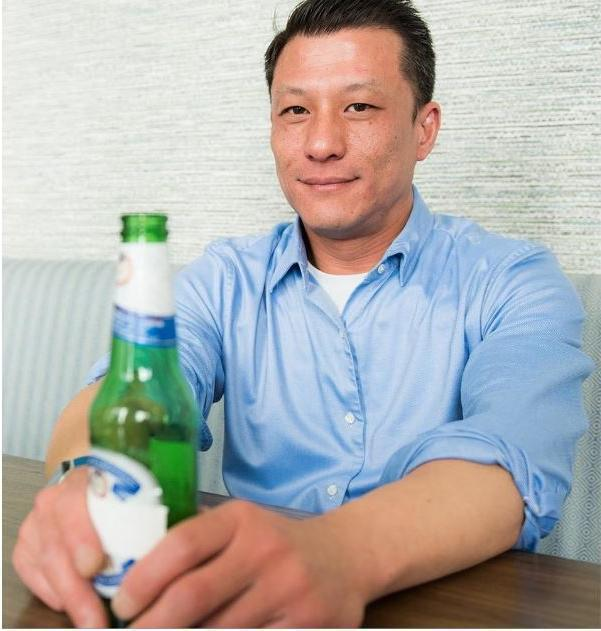Drunk: (275, 40, 409, 225)
